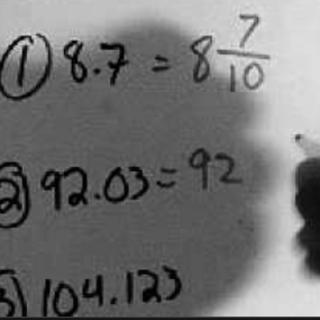.: (108, 294, 118, 306), (91, 65, 101, 76), (92, 191, 102, 201)
0: (51, 280, 80, 319), (102, 166, 130, 204), (242, 61, 265, 91)
1: (123, 269, 136, 307), (40, 277, 52, 318), (228, 63, 237, 94)
2: (213, 149, 245, 188), (62, 167, 89, 208), (135, 267, 164, 304)
3: (129, 163, 150, 204), (161, 265, 184, 302)
4: (82, 274, 105, 307)
7: (100, 40, 130, 87), (236, 12, 260, 50)
8: (188, 34, 216, 84), (62, 38, 89, 84)
9: (188, 146, 212, 193), (40, 169, 62, 212)
